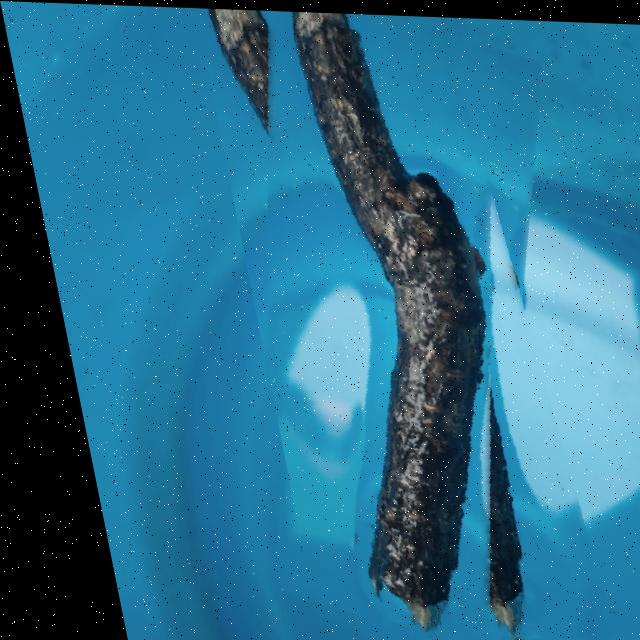litter: (195, 6, 594, 640)
